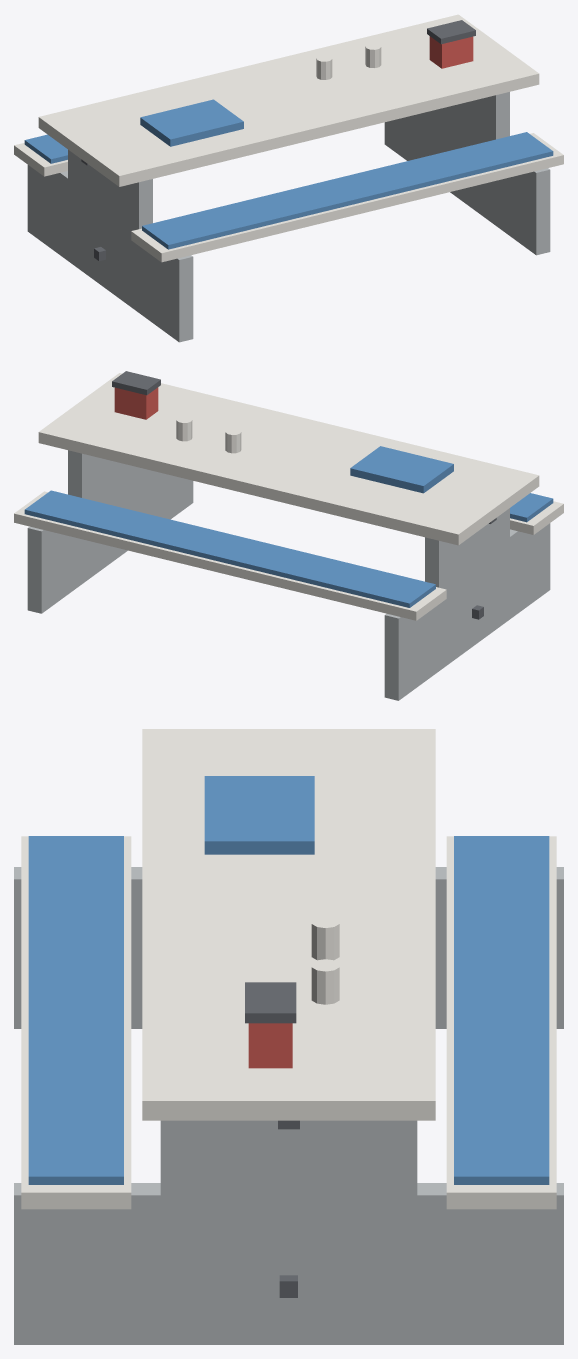
Rendered from parcel-depot-and-sorting-hall-parcel-depot-and-sorting-8444d504__34827.glb.
3 renders of one model, top to bottom at view 1: azimuth 30°, elevation 25°; view 2: azimuth 150°, elevation 25°; view 3: azimuth 270°, elevation 25°, orthographic. The views are drawn at different scales.
Parts seen in each view (by area): view 1: parcel-depot-and-sorting-hall-canteen-table-run; view 2: parcel-depot-and-sorting-hall-canteen-table-run; view 3: parcel-depot-and-sorting-hall-canteen-table-run.
Boxes of the visible parts, x1,y1,x2,y2 form: parcel-depot-and-sorting-hall-canteen-table-run: (14,14,563,342); parcel-depot-and-sorting-hall-canteen-table-run: (14,371,563,700); parcel-depot-and-sorting-hall-canteen-table-run: (14,729,563,1344).
Size of the model in its own units: 2.4 by 0.9699 by 1.5.
